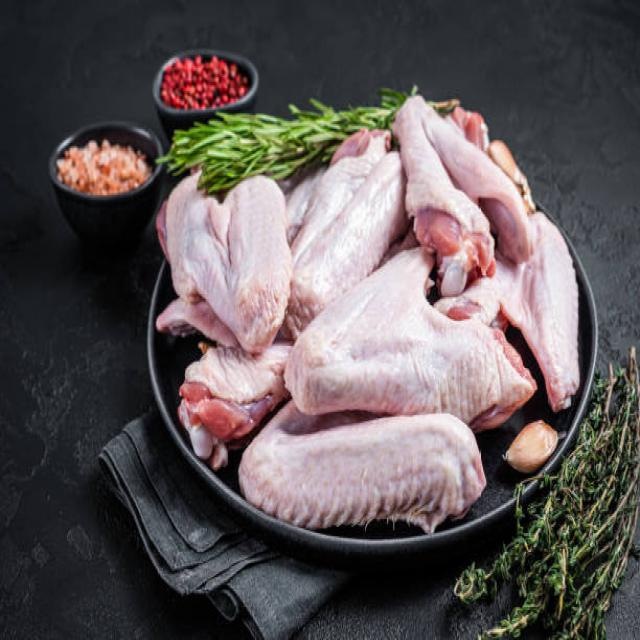Chicken: (280, 246, 518, 418), (170, 174, 284, 356)
